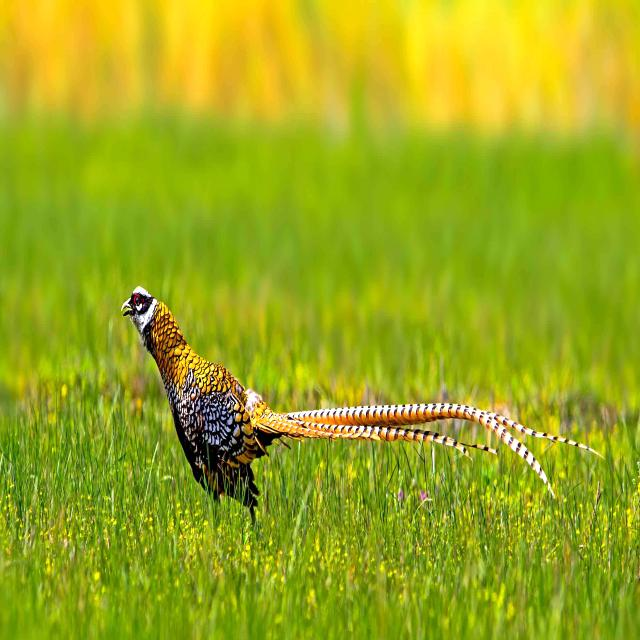Reeves-s Pheasant: (255, 403, 599, 485)
